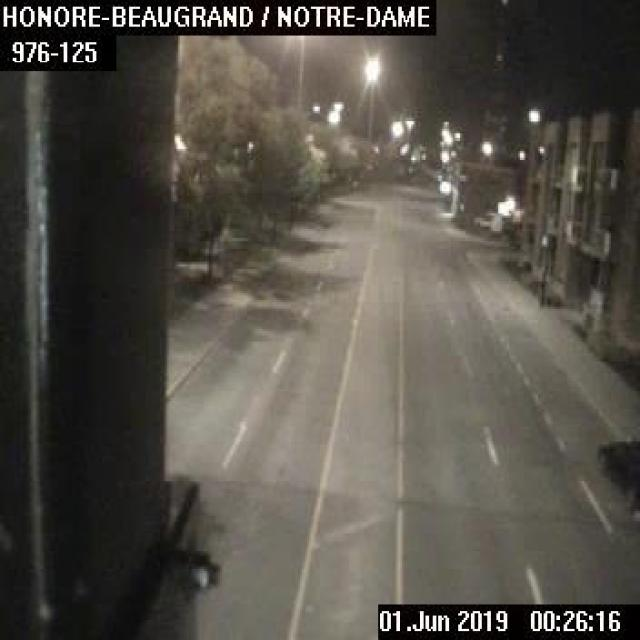vehicle: (596, 438, 638, 513)
